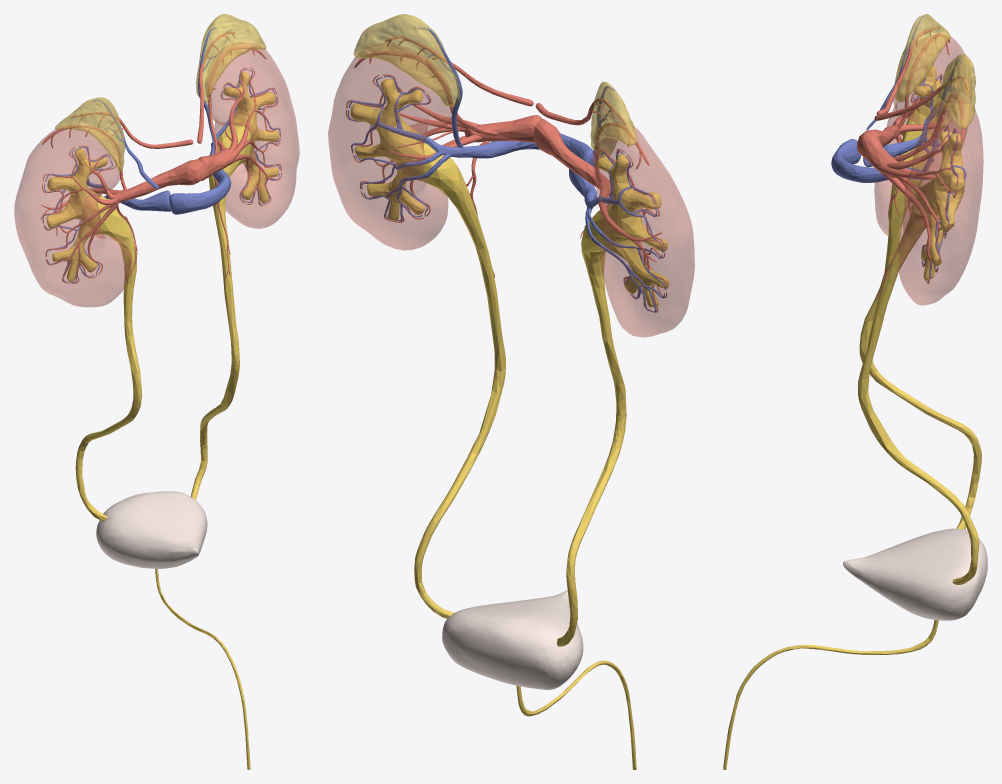
File: renal_system.glb
3 views of the same model, side by side, from view 1: azimuth 30°, elevation 25°; view 2: azimuth 150°, elevation 25°; view 3: azimuth 270°, elevation 25° (orthographic). The views are drawn at different scales.
Parts seen in each view (by area): view 1: polySurface653, polySurface647, polySurface648, polySurface661, polySurface669, polySurface655, polySurface654, polySurface618, polySurface2, polySurface656, polySurface592, polySurface366 (+5 smaller); view 2: polySurface647, polySurface653, polySurface669, polySurface648, polySurface661, polySurface655, polySurface3, polySurface654, polySurface366, polySurface618, polySurface2, polySurface154 (+4 smaller); view 3: polySurface647, polySurface648, polySurface669, polySurface661, polySurface653, polySurface654, polySurface655, polySurface656, polySurface2, polySurface154, polySurface165, polySurface366 (+5 smaller).
Boxes of the visible parts, box(x1,y1,x2,y2) form: polySurface653: box(14, 124, 131, 307); polySurface647: box(205, 42, 299, 228); polySurface648: box(96, 491, 207, 568); polySurface661: box(46, 148, 142, 521); polySurface669: box(191, 71, 279, 500); polySurface655: box(196, 14, 266, 102); polySurface654: box(55, 97, 124, 171); polySurface618: box(114, 159, 203, 202); polySurface2: box(169, 150, 231, 214); polySurface656: box(155, 569, 250, 769); polySurface592: box(121, 190, 171, 211); polySurface366: box(42, 146, 120, 282); polySurface647: box(328, 43, 451, 250); polySurface653: box(593, 122, 694, 337); polySurface669: box(350, 79, 505, 618); polySurface648: box(442, 590, 583, 689); polySurface661: box(557, 154, 669, 646); polySurface655: box(353, 14, 460, 106); polySurface3: box(348, 75, 480, 221); polySurface654: box(590, 81, 637, 156); polySurface366: box(584, 150, 664, 310); polySurface618: box(533, 119, 613, 197); polySurface2: box(469, 133, 595, 167); polySurface154: box(464, 115, 541, 142); polySurface647: box(898, 92, 983, 305); polySurface648: box(843, 528, 987, 620); polySurface669: box(858, 131, 979, 584); polySurface661: box(859, 66, 981, 529); polySurface653: box(874, 34, 967, 238); polySurface654: box(894, 14, 950, 102); polySurface655: box(934, 54, 975, 129); polySurface656: box(723, 620, 938, 769); polySurface2: box(831, 139, 916, 182); polySurface154: box(857, 132, 901, 177); polySurface165: box(893, 94, 964, 161); polySurface366: box(900, 64, 941, 170).
Size of the model in its own units: 178 by 400 by 127.
